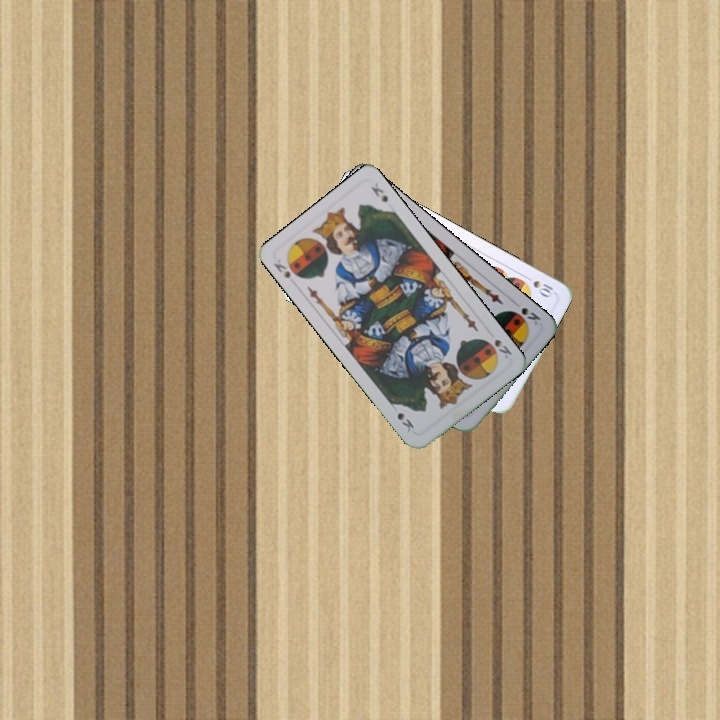S10: (520, 271, 556, 300)
SK: (269, 255, 304, 282), (490, 335, 515, 361), (517, 303, 543, 327)
